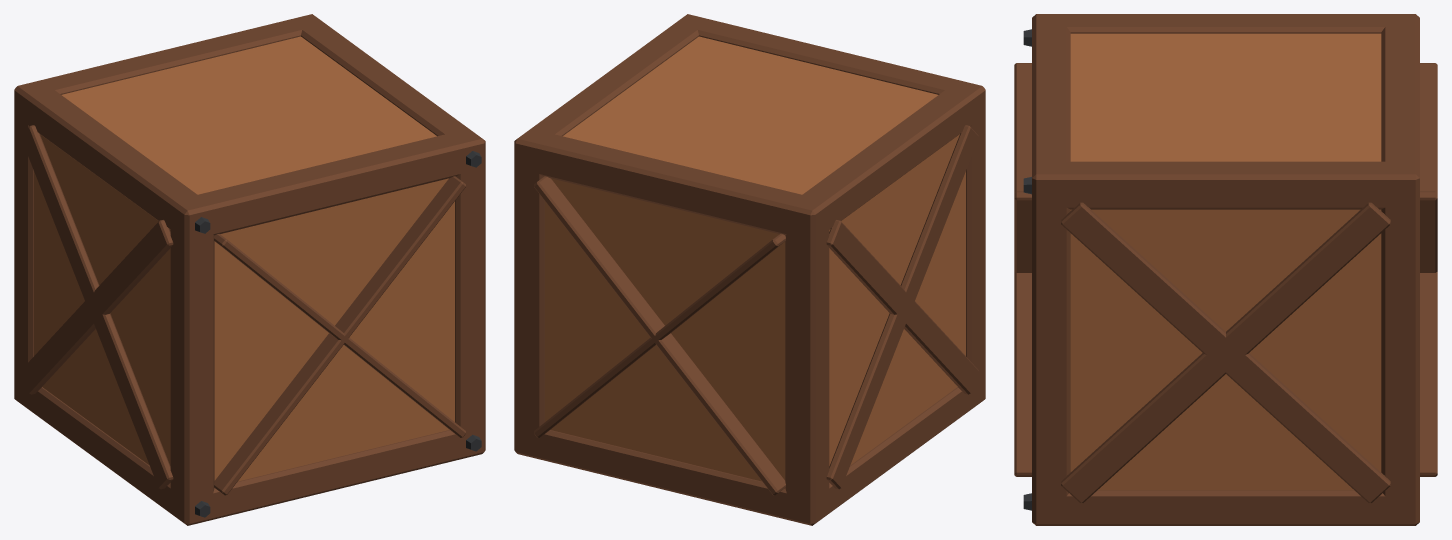
The model's file is Lodge_Crate.fbx.
The picture shows the model from 3 angles, left to right: view 1: azimuth 30°, elevation 25°; view 2: azimuth 150°, elevation 25°; view 3: azimuth 270°, elevation 25°; orthographic projection. The views are drawn at different scales.
Visible parts, largest first — view 1: FnWood, FnWoodDark, Bolts; view 2: FnWood, FnWoodDark; view 3: FnWoodDark, FnWood.
Part boxes in pixels (x1,y1,x2,y2): FnWood: (34,36,454,481); FnWoodDark: (14,14,485,525); Bolts: (195,151,481,517); FnWood: (545,36,965,481); FnWoodDark: (514,14,985,525); FnWoodDark: (1014,14,1437,525); FnWood: (1070,33,1381,490).
Bounding box in the file's own units: 2.9 × 2.8 × 3.05.
